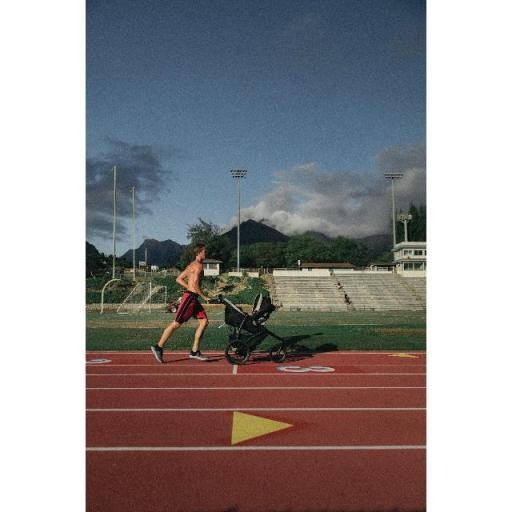Running: (140, 237, 222, 365)
